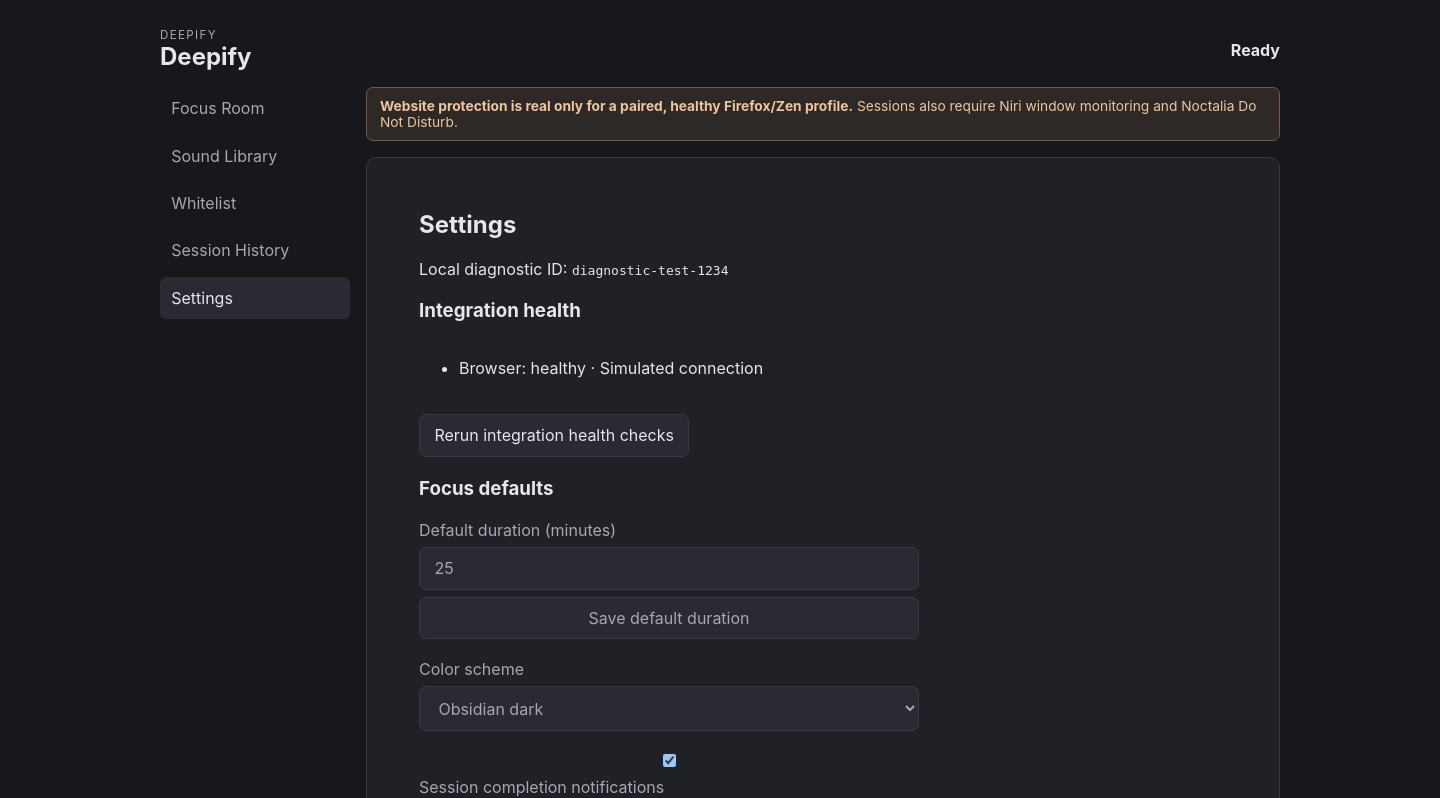
Test: Phase 2 vertical flow › settings save the default duration and expose integration health repair
Step 1. Replace the text in the field labelled "Default duration (minutes)" with "45" → (669, 568), box 419,547 -> 919,590
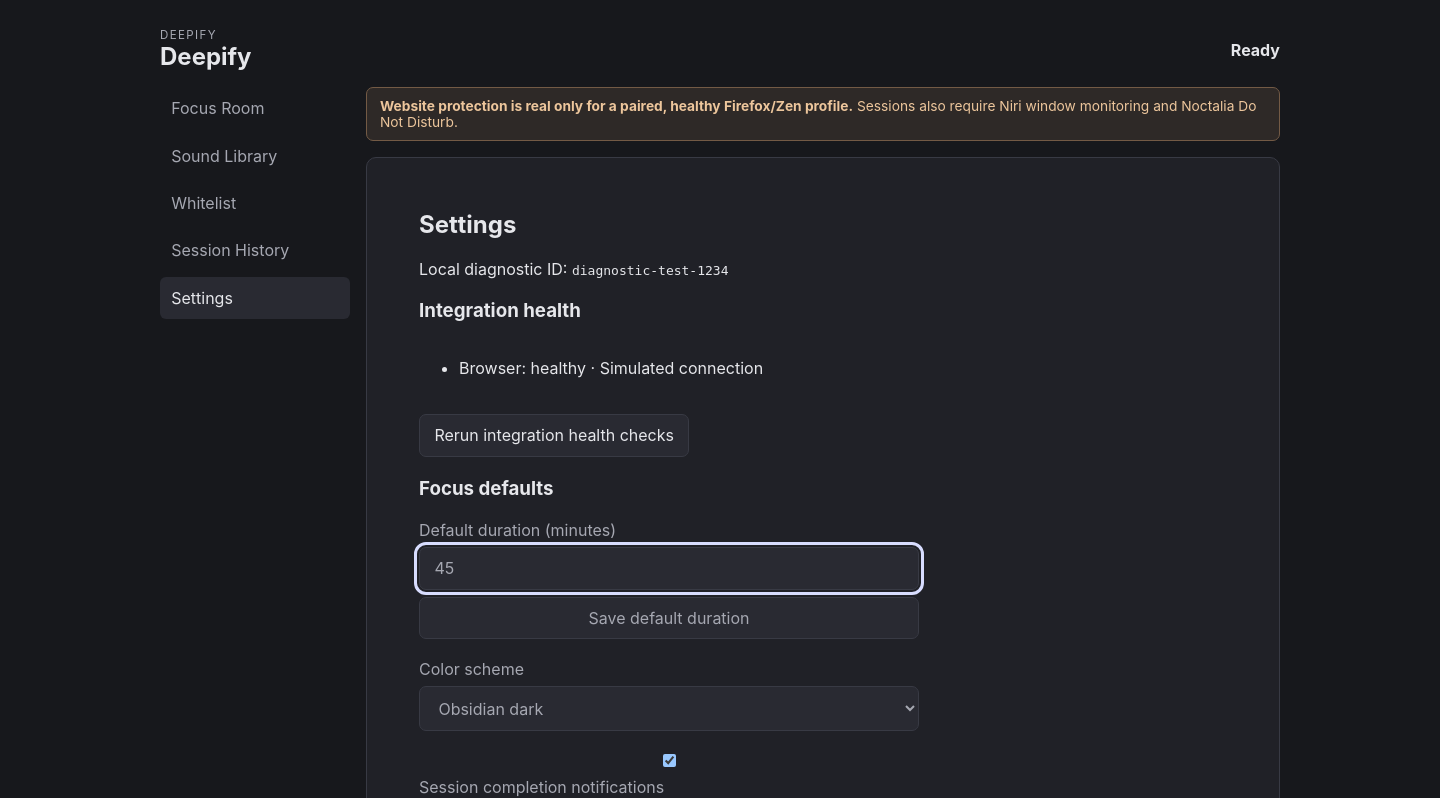
Step 2. Click the button "Save default duration" → (669, 618), box 419,597 -> 919,639
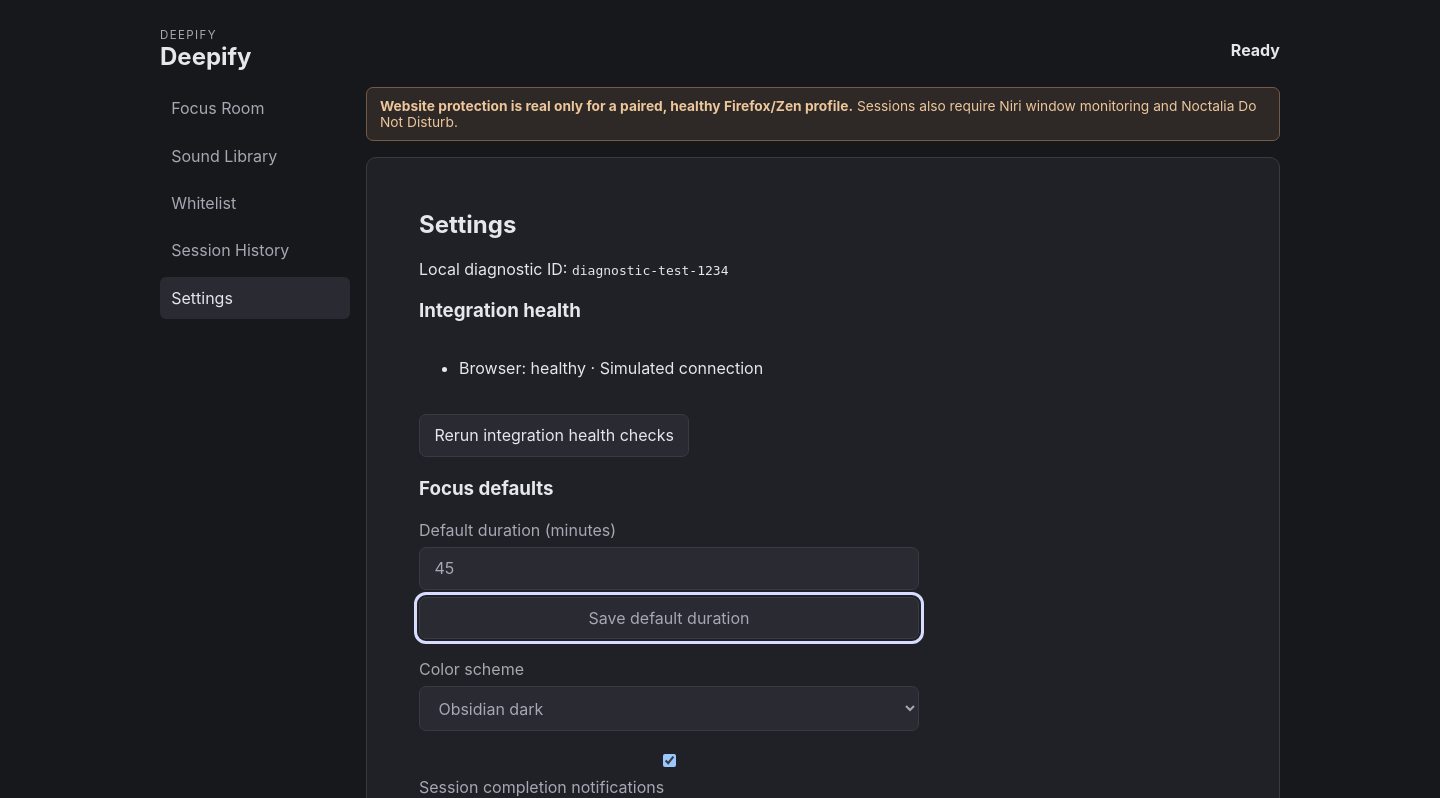
Check: the text "diagnostic-test-1234" is shown, box 572,263 -> 728,278
Step 3. Click the button "Rerun integration health checks" → (554, 435), box 419,414 -> 689,457
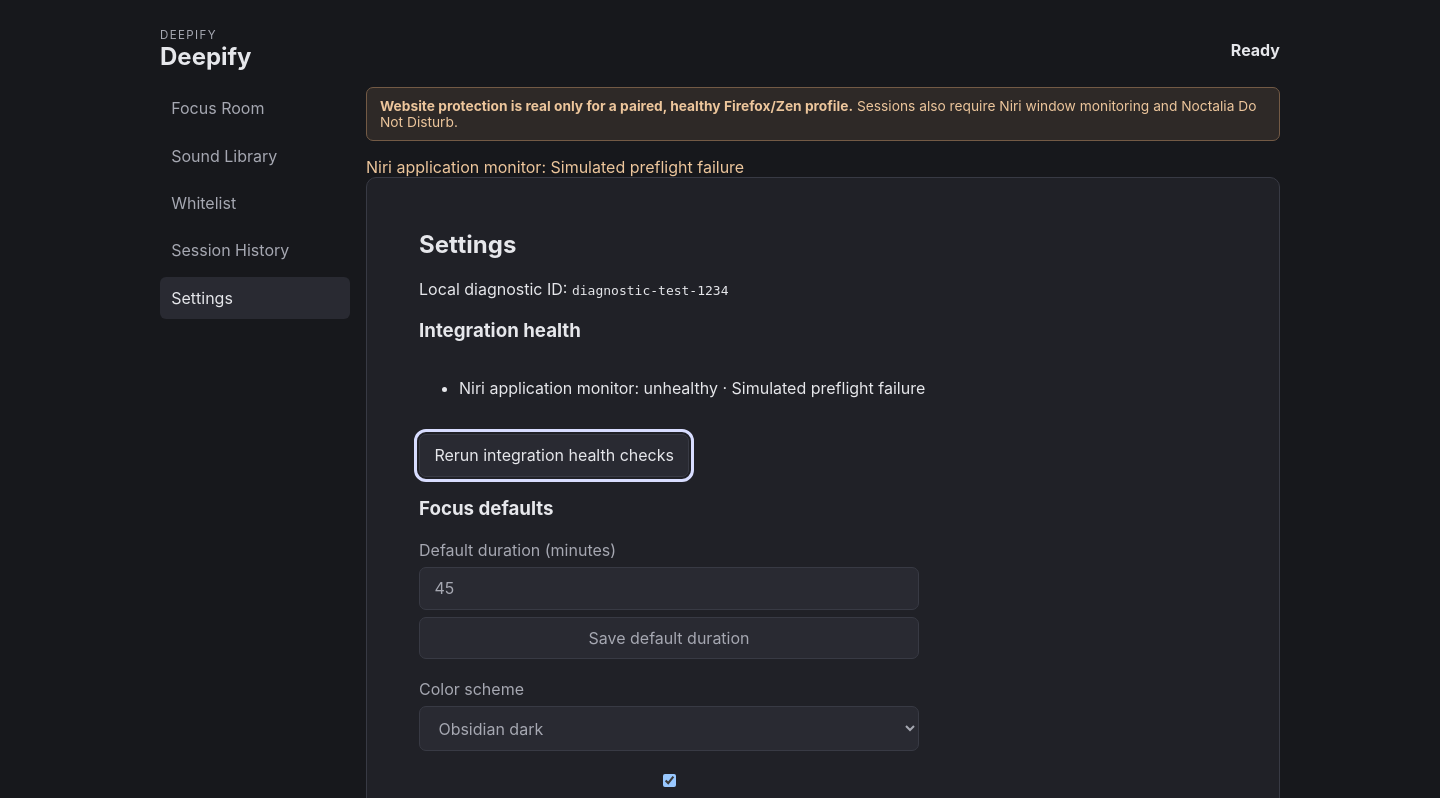
Check: the list item "Niri application monitor: unhealthy" is shown, box 459,378 -> 925,398
